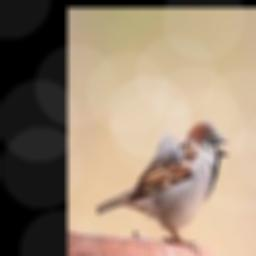Sparrow: (96, 119, 229, 252)
